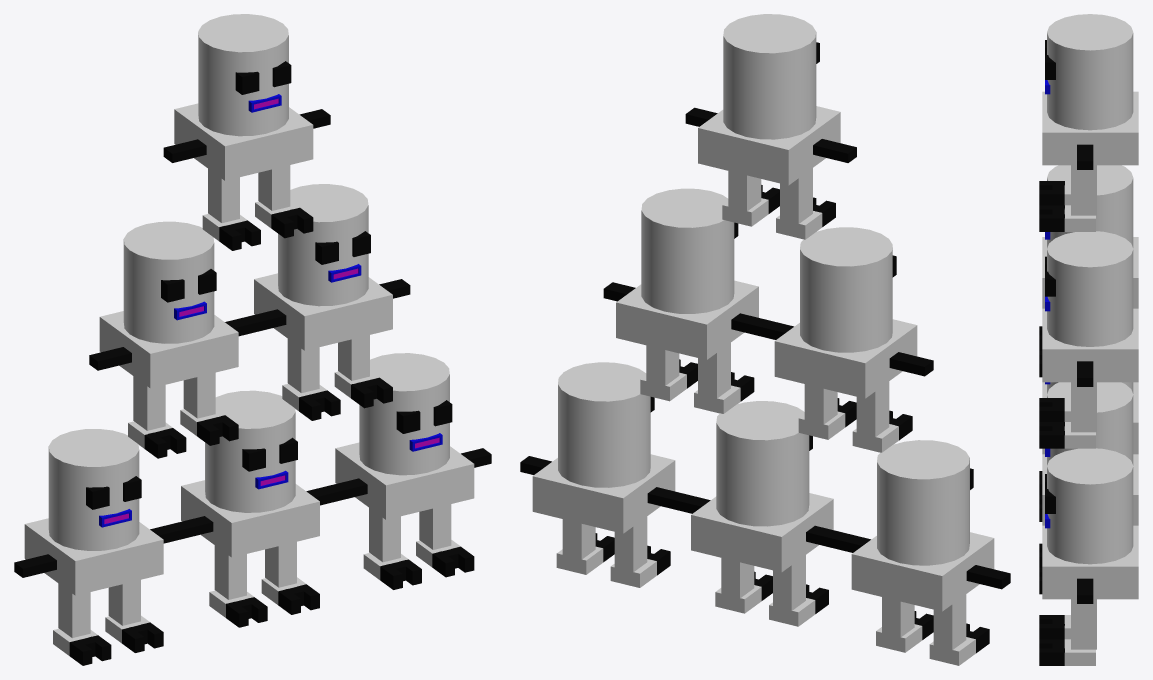
3 renders of one model, left to right at view 1: azimuth 30°, elevation 25°; view 2: azimuth 150°, elevation 25°; view 3: azimuth 270°, elevation 25°, orthographic. The views are drawn at different scales.
Visible parts, largest first — view 1: pCylinder76, pCylinder54, pCylinder80, pCylinder75, pCylinder74, pCylinder78, pCube2489, pCube2505, pCube275, pCube2567, pCube2473, pCube2536 (+15 smaller); view 2: pCylinder80, pCylinder54, pCylinder76, pCylinder78, pCylinder74, pCylinder75, pCube2489, pCube2505, pCube275, pCube2536, pCube2473, pCube2567 (+27 smaller); view 3: pCylinder75, pCylinder80, pCylinder78, pCube2536, pCube2489, pCube2567, pCylinder74, pCylinder76, pCube2491, pCube2538, pCube2569, pCube2505 (+23 smaller).
Boxes of the visible parts, x1=… form: pCylinder76: x1=123, y1=221, x2=214, y2=343; pCylinder54: x1=48, y1=429, x2=139, y2=550; pCylinder80: x1=198, y1=14, x2=288, y2=136; pCylinder75: x1=359, y1=353, x2=449, y2=475; pCylinder74: x1=205, y1=390, x2=295, y2=512; pCylinder78: x1=278, y1=184, x2=368, y2=306; pCube2489: x1=335, y1=442, x2=474, y2=519; pCube2505: x1=99, y1=311, x2=238, y2=388; pCube275: x1=24, y1=518, x2=163, y2=595; pCube2567: x1=174, y1=103, x2=313, y2=180; pCube2473: x1=181, y1=480, x2=319, y2=557; pCube2536: x1=254, y1=273, x2=392, y2=350; pCylinder80: x1=723, y1=14, x2=816, y2=139; pCylinder54: x1=877, y1=440, x2=969, y2=565; pCylinder76: x1=800, y1=227, x2=892, y2=352; pCylinder78: x1=641, y1=188, x2=734, y2=313; pCylinder74: x1=716, y1=401, x2=809, y2=526; pCylinder75: x1=558, y1=362, x2=650, y2=487; pCube2489: x1=532, y1=454, x2=675, y2=533; pCube2505: x1=774, y1=319, x2=917, y2=398; pCube275: x1=851, y1=532, x2=994, y2=611; pCube2536: x1=616, y1=280, x2=758, y2=359; pCube2473: x1=691, y1=493, x2=833, y2=572; pCube2567: x1=698, y1=106, x2=840, y2=185; pCylinder75: x1=1047, y1=448, x2=1133, y2=564; pCylinder80: x1=1047, y1=14, x2=1133, y2=130; pCylinder78: x1=1047, y1=231, x2=1133, y2=346; pCube2536: x1=1042, y1=308, x2=1138, y2=382; pCube2489: x1=1042, y1=525, x2=1138, y2=599; pCube2567: x1=1042, y1=91, x2=1138, y2=165; pCylinder74: x1=1047, y1=382, x2=1133, y2=465; pCylinder76: x1=1047, y1=165, x2=1133, y2=248; pCube2491: x1=1071, y1=599, x2=1096, y2=649; pCube2538: x1=1071, y1=382, x2=1096, y2=432; pCube2569: x1=1071, y1=165, x2=1096, y2=215; pCube2505: x1=1042, y1=237, x2=1138, y2=308.
Bounding box in the file's own units: 20.15 × 23.3 × 3.88.
